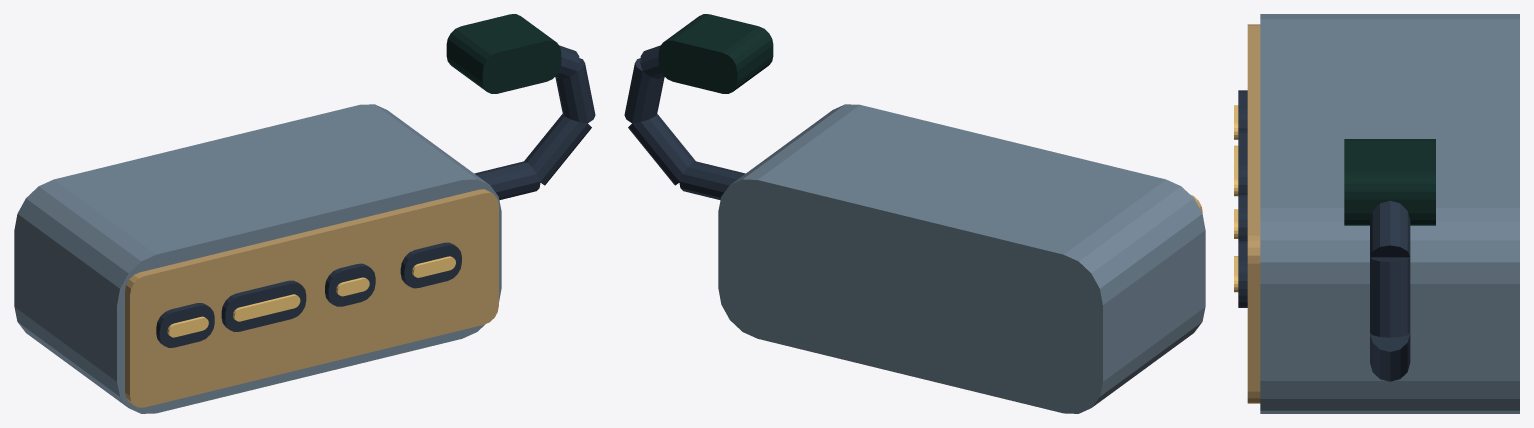
The model's file is adapterhub.glb.
The picture shows the model from 3 angles, left to right: view 1: azimuth 30°, elevation 25°; view 2: azimuth 150°, elevation 25°; view 3: azimuth 270°, elevation 25°; orthographic projection. The views are drawn at different scales.
Visible parts, largest first — view 1: shell, face, plug, port 1, cable1, port 3, cable2, cable0, port 0, port 2, port tongue 1, port tongue 3 (+2 smaller); view 2: shell, plug, cable1, cable2, cable0, cable3; view 3: shell, plug, face, cable2, cable3, cable1, port 3, port 1, port 2, port 0.
Part boxes in pixels (left/top/right/bottom): shell: left=14, top=104, right=501, bottom=413; face: left=125, top=189, right=498, bottom=407; plug: left=446, top=14, right=561, bottom=93; port 1: left=221, top=280, right=306, bottom=331; cable1: left=524, top=114, right=591, bottom=185; port 3: left=400, top=242, right=461, bottom=288; cable2: left=555, top=58, right=595, bottom=123; cable0: left=474, top=161, right=540, bottom=200; port 0: left=156, top=303, right=214, bottom=347; port 2: left=325, top=263, right=375, bottom=306; port tongue 1: left=233, top=294, right=300, bottom=321; port tongue 3: left=412, top=256, right=455, bottom=277; shell: left=718, top=104, right=1205, bottom=413; plug: left=658, top=14, right=773, bottom=93; cable1: left=628, top=114, right=695, bottom=185; cable2: left=624, top=58, right=664, bottom=123; cable0: left=679, top=161, right=745, bottom=200; cable3: left=640, top=45, right=664, bottom=78; shell: left=1260, top=14, right=1519, bottom=413; plug: left=1344, top=139, right=1435, bottom=225; face: left=1247, top=24, right=1260, bottom=403; cable2: left=1370, top=257, right=1410, bottom=337; cable3: left=1370, top=200, right=1410, bottom=257; cable1: left=1370, top=333, right=1410, bottom=381; port 3: left=1238, top=241, right=1247, bottom=307; port 1: left=1238, top=130, right=1247, bottom=194; port 2: left=1238, top=194, right=1247, bottom=241; port 0: left=1238, top=90, right=1247, bottom=130.
Size of the model in its own units: 2.02 by 0.895 by 0.749.
